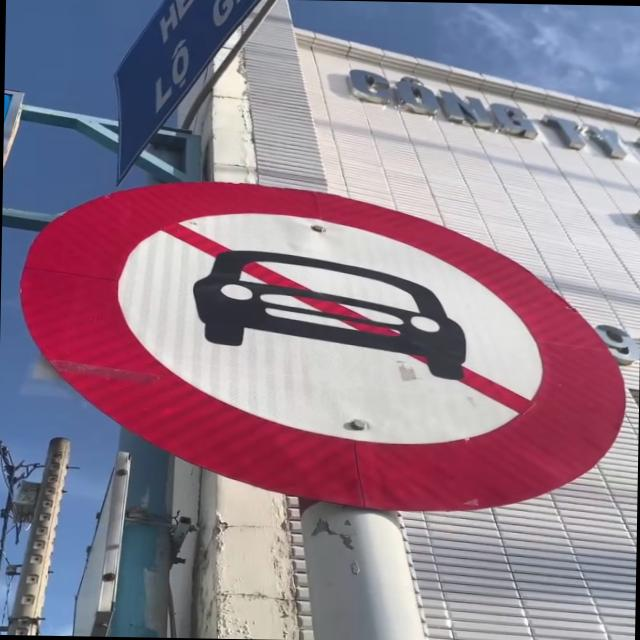Cam_O_To: (16, 176, 625, 516)
